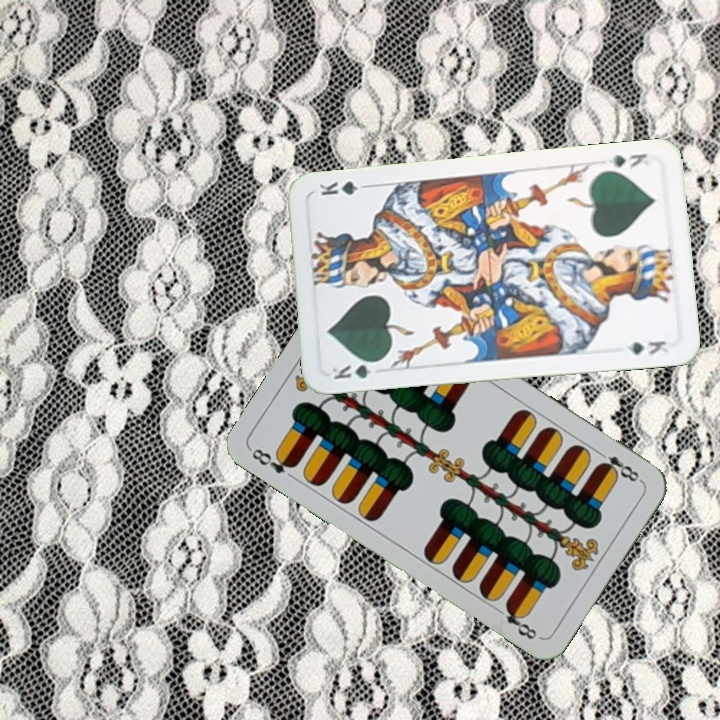E8: (592, 446, 644, 485), (246, 444, 300, 477)
GK: (328, 357, 384, 382), (604, 149, 651, 172)
